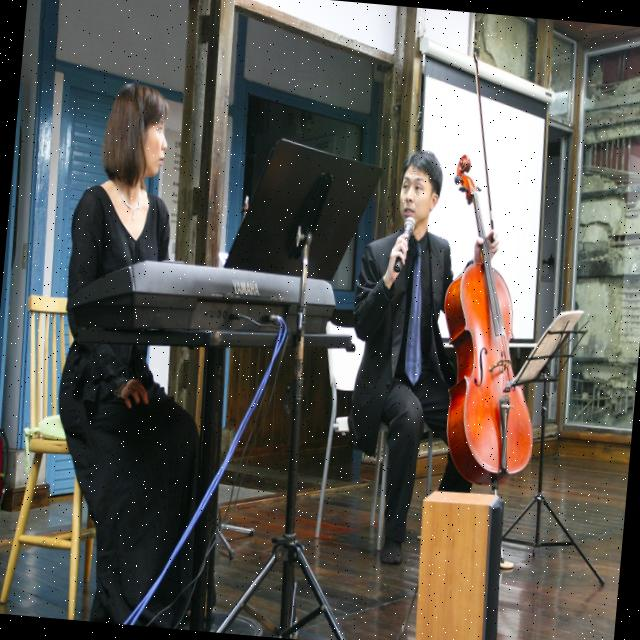cello: (424, 152, 558, 489)
